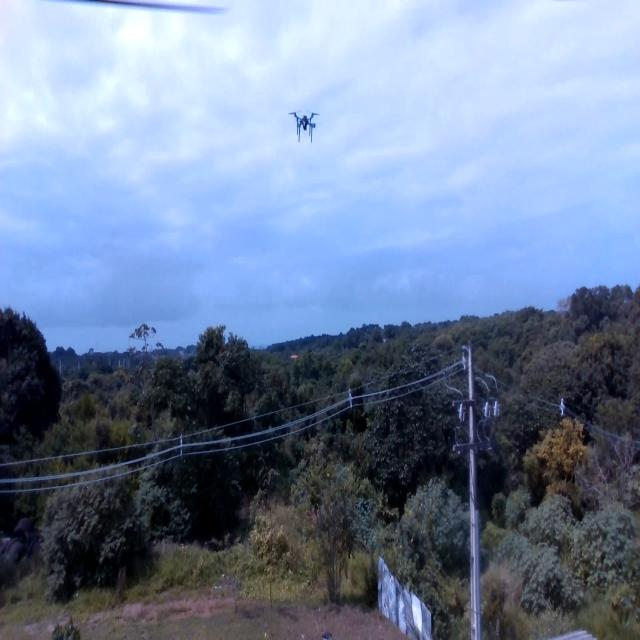-uav-: (283, 92, 322, 154)
